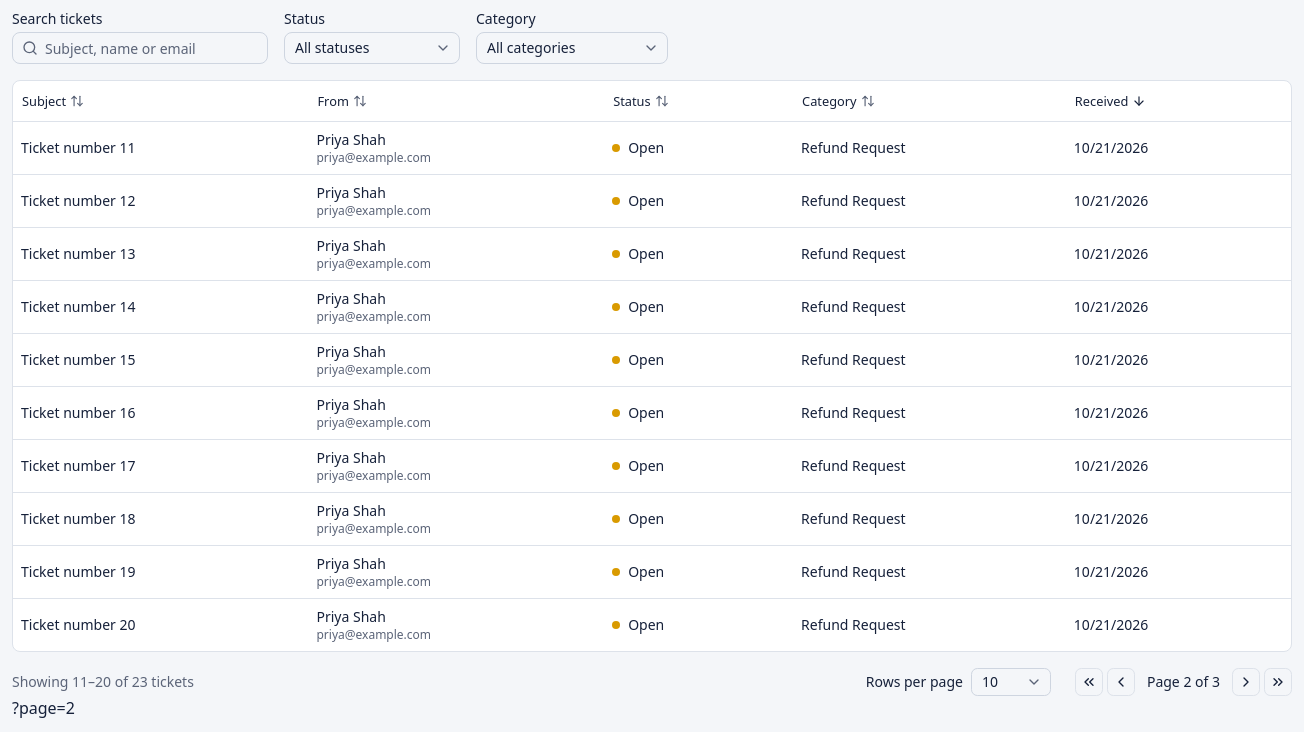
Test case: TicketsTable › pagination › changing the search goes back to page 1
Expected: the link "Ticket number 11" is shown, [21, 138, 136, 156]
Step 1. Type "number" into the search field labelled "Search tickets" → [140, 48], box [12, 32, 268, 64]
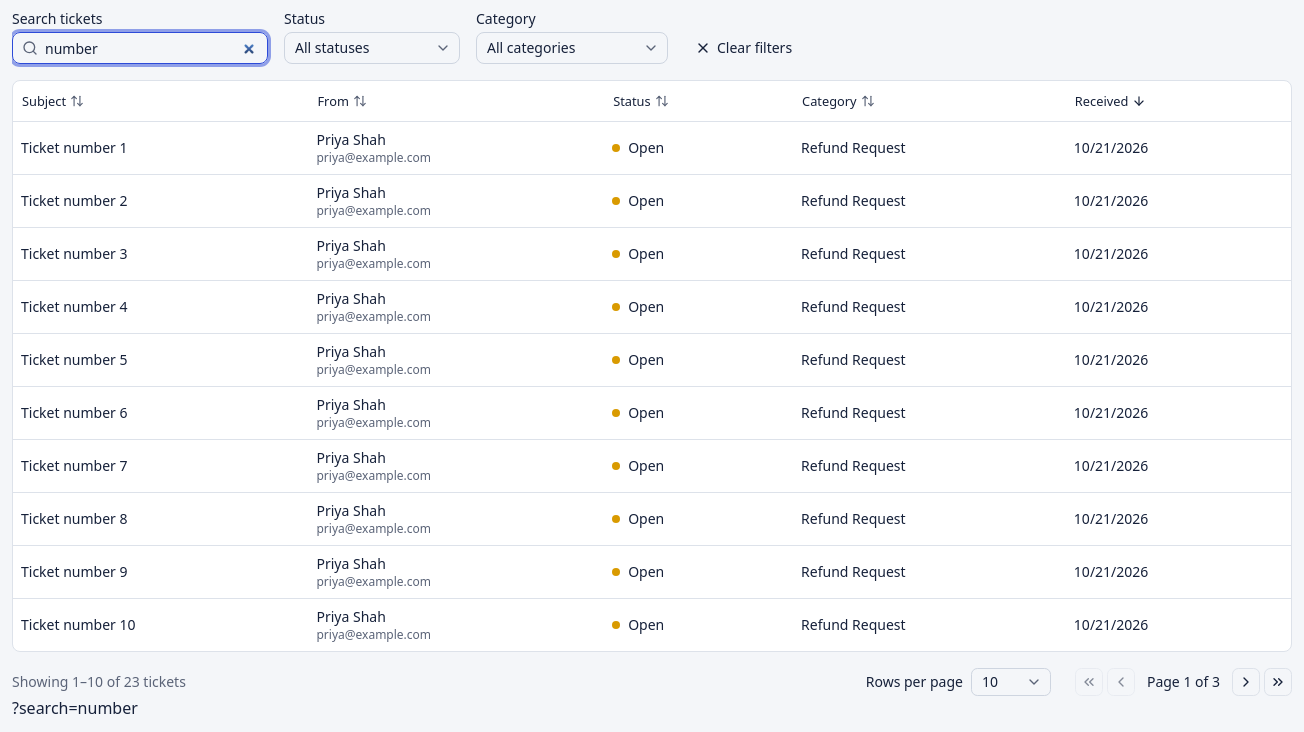
Now the text with test id "location-search" no longer shows "page=", box [12, 696, 138, 718]
